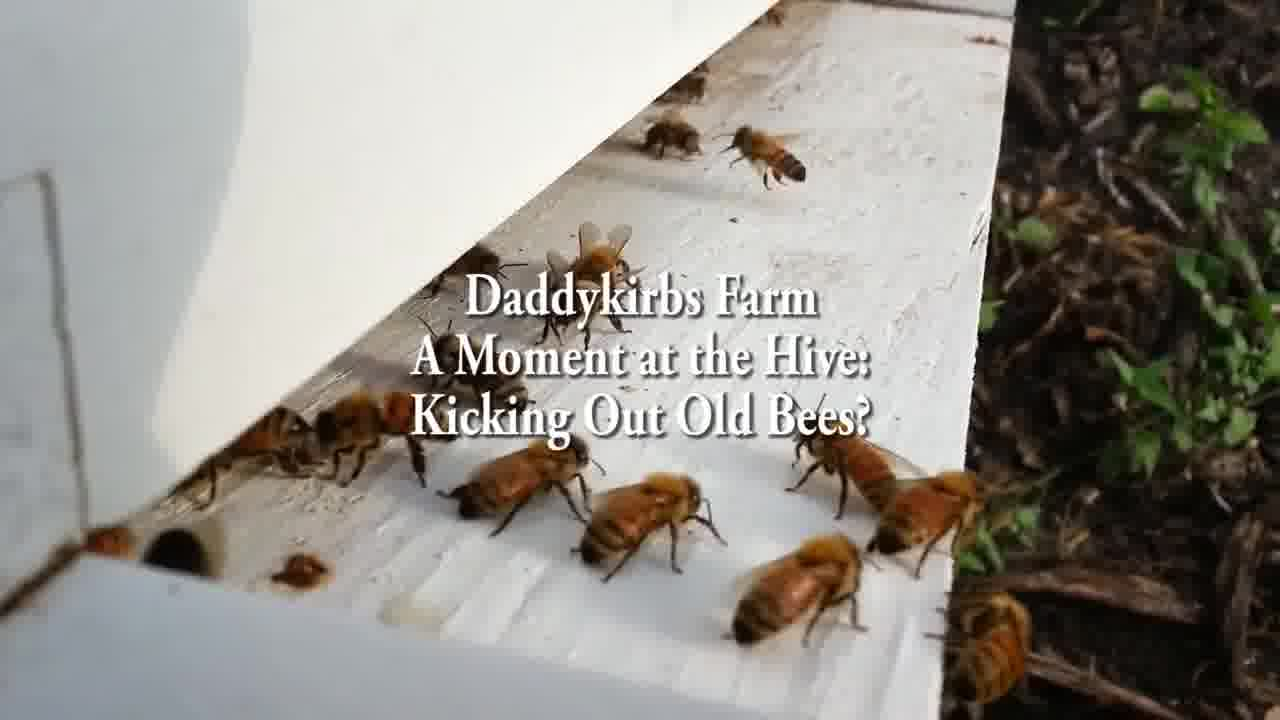pollen: (724, 121, 803, 195)
